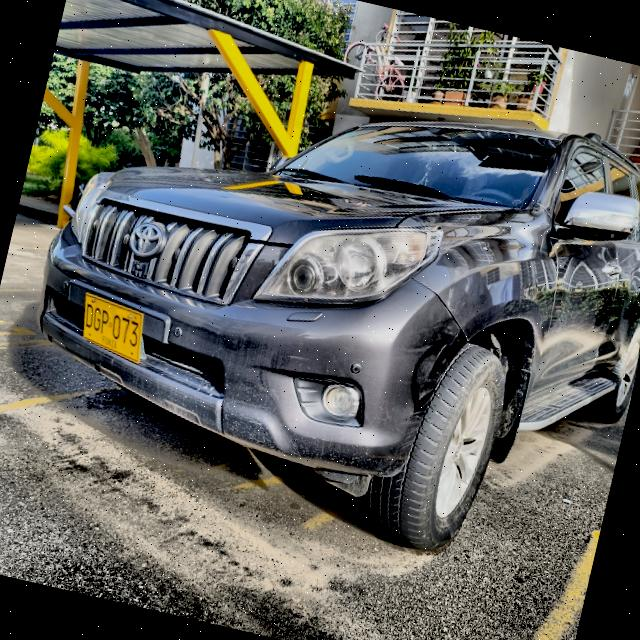plate: (83, 293, 142, 362)
